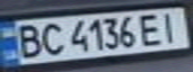1: (84, 16, 106, 52)
3: (103, 15, 124, 49)
4: (66, 17, 90, 53)
6: (118, 12, 142, 48)
B: (9, 21, 45, 60)
C: (36, 20, 66, 56)
E: (136, 11, 166, 47)
I: (154, 9, 187, 44)
